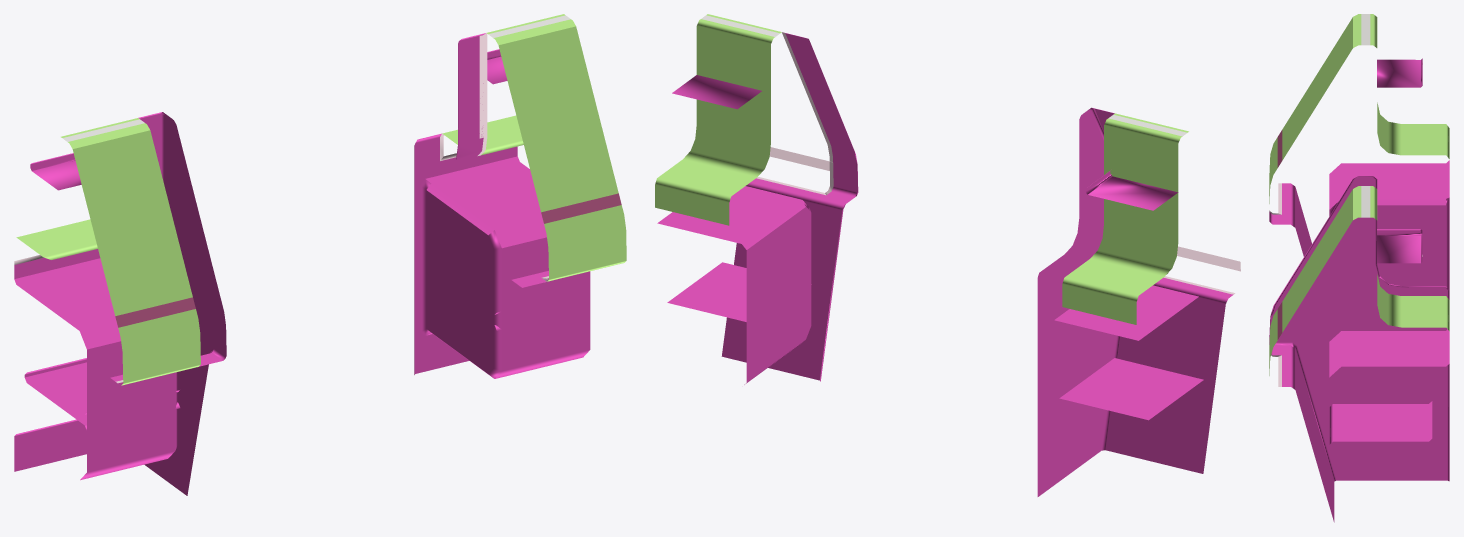
Rendered from counter_welcome_1_door_01x0075x0140_a.glb.
The picture shows the model from 3 angles, left to right: view 1: azimuth 30°, elevation 25°; view 2: azimuth 150°, elevation 25°; view 3: azimuth 270°, elevation 25°; orthographic projection. The views are drawn at different scales.
Size of the model in its own units: 2 by 1.4 by 0.7502.
